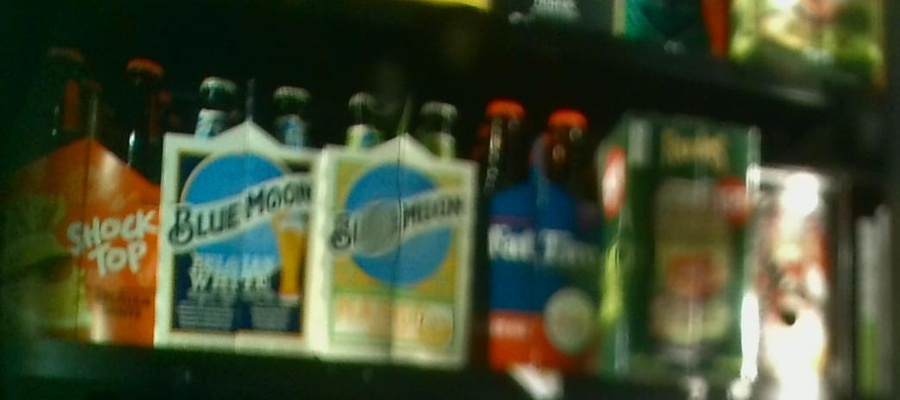bottle: (5, 43, 158, 347), (161, 71, 321, 355), (321, 89, 480, 373), (605, 117, 758, 395), (480, 97, 602, 378), (753, 162, 857, 396)
